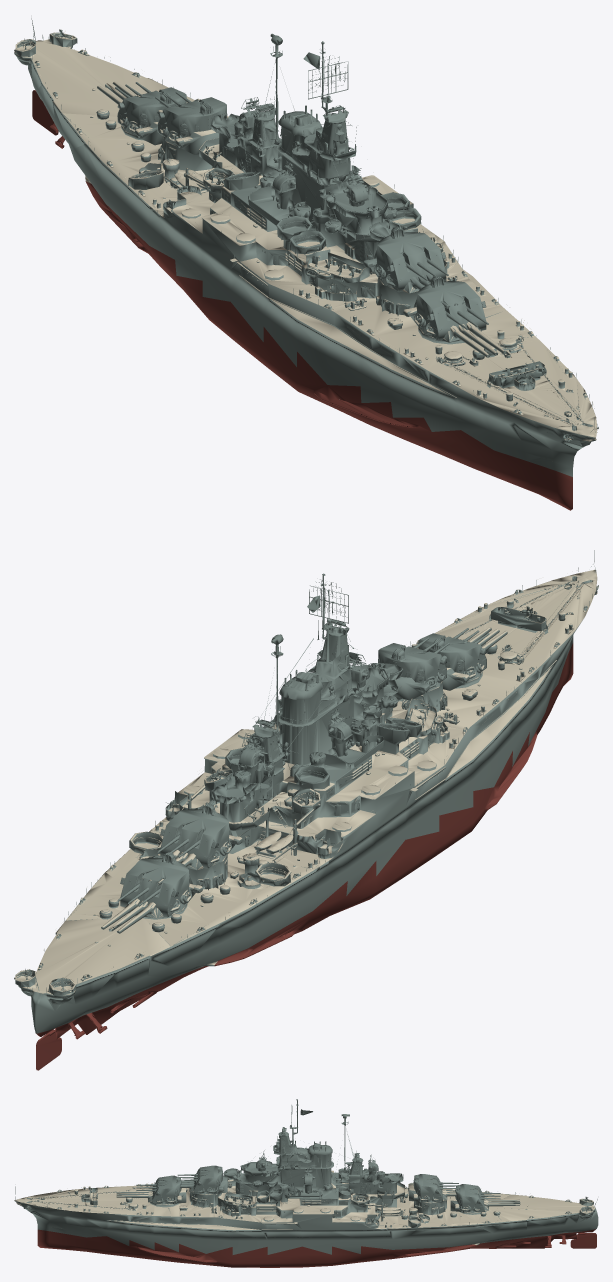
File: california.glb
The picture shows the model from 3 angles, top to bottom: view 1: azimuth 30°, elevation 25°; view 2: azimuth 150°, elevation 25°; view 3: azimuth 270°, elevation 25°; orthographic projection. The views are drawn at different scales.
Visible parts, largest first — view 1: Hull, Body (×4); view 2: Hull, Body (×4); view 3: Hull, Body (×4).
Part boxes in pixels (left/top/right/bottom): Hull: left=14, top=18, right=598, bottom=510; Body (×4): left=117, top=87, right=486, bottom=341; Hull: left=14, top=550, right=598, bottom=1070; Body (×4): left=120, top=633, right=486, bottom=917; Hull: left=14, top=1099, right=598, bottom=1267; Body (×4): left=152, top=1165, right=484, bottom=1212.
Size of the model in its own units: 36.85 by 55 by 195.
